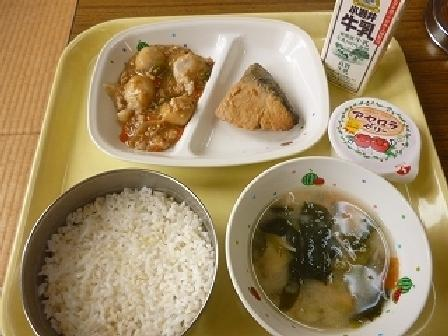Cup desserts: (313, 92, 427, 179)
Meat: (209, 60, 308, 155)
Milk: (316, 0, 412, 87)
Rice: (22, 173, 219, 333)
Soups: (236, 155, 434, 335)
vegetable based cooked food: (105, 43, 208, 151)
